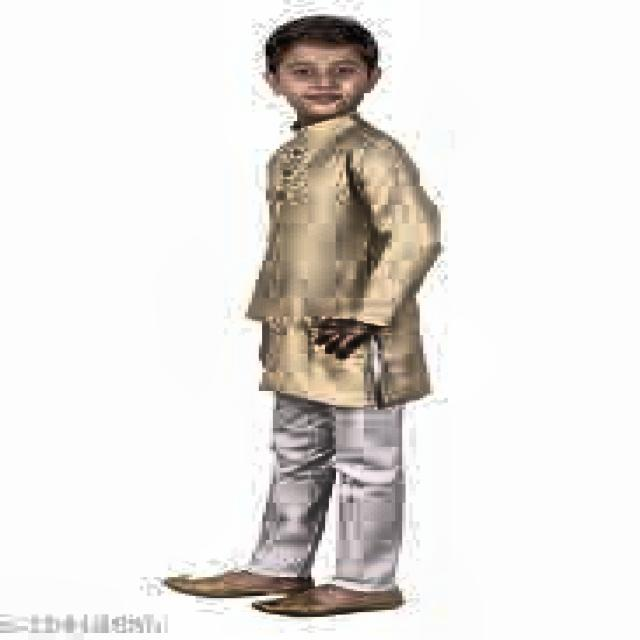Human: (196, 9, 471, 610)
